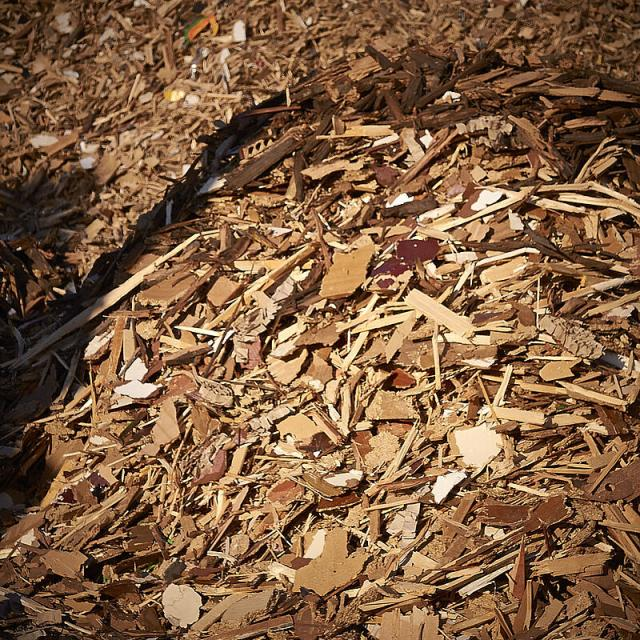green waste: (6, 3, 631, 636)
